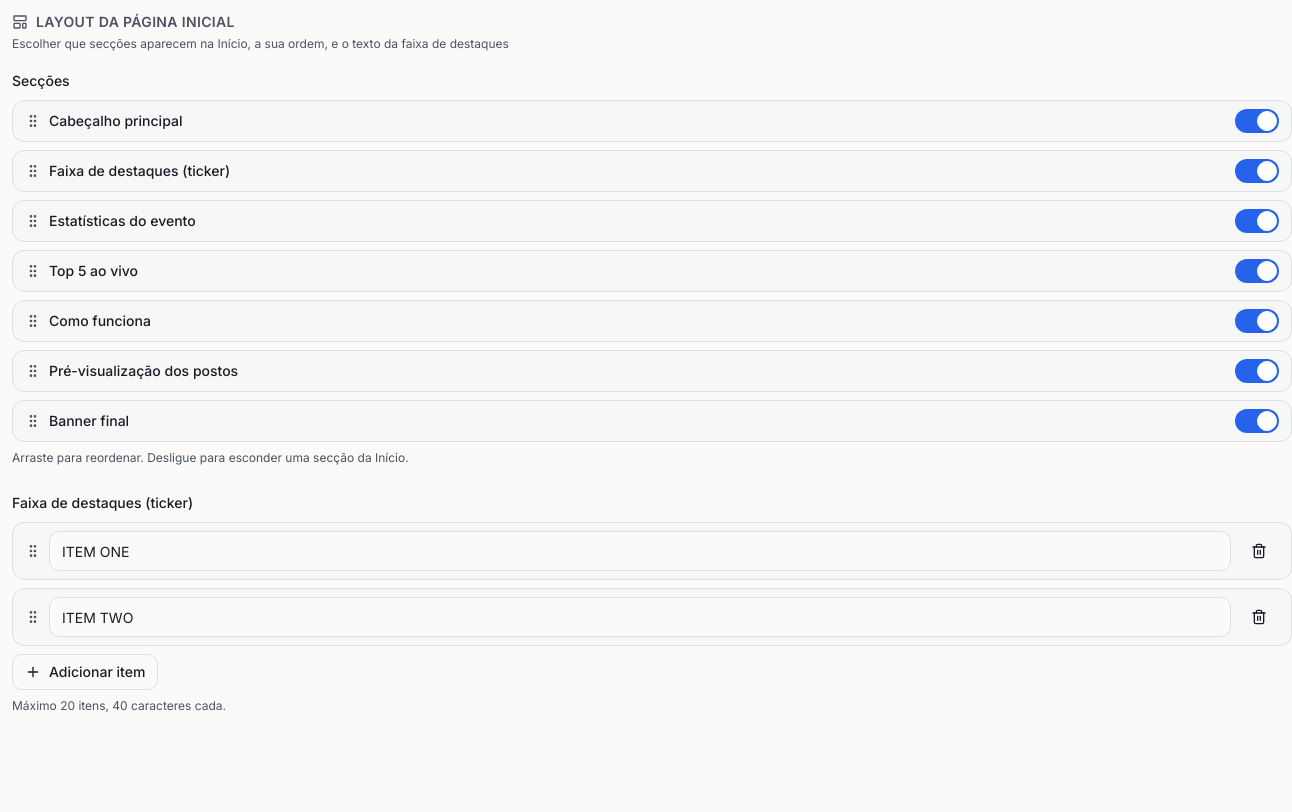
Test: HomeLayoutSettings › adds a new ticker item on button click
Click the button "Adicionar item": coordinates (85, 672) left=12, top=654, right=158, bottom=690
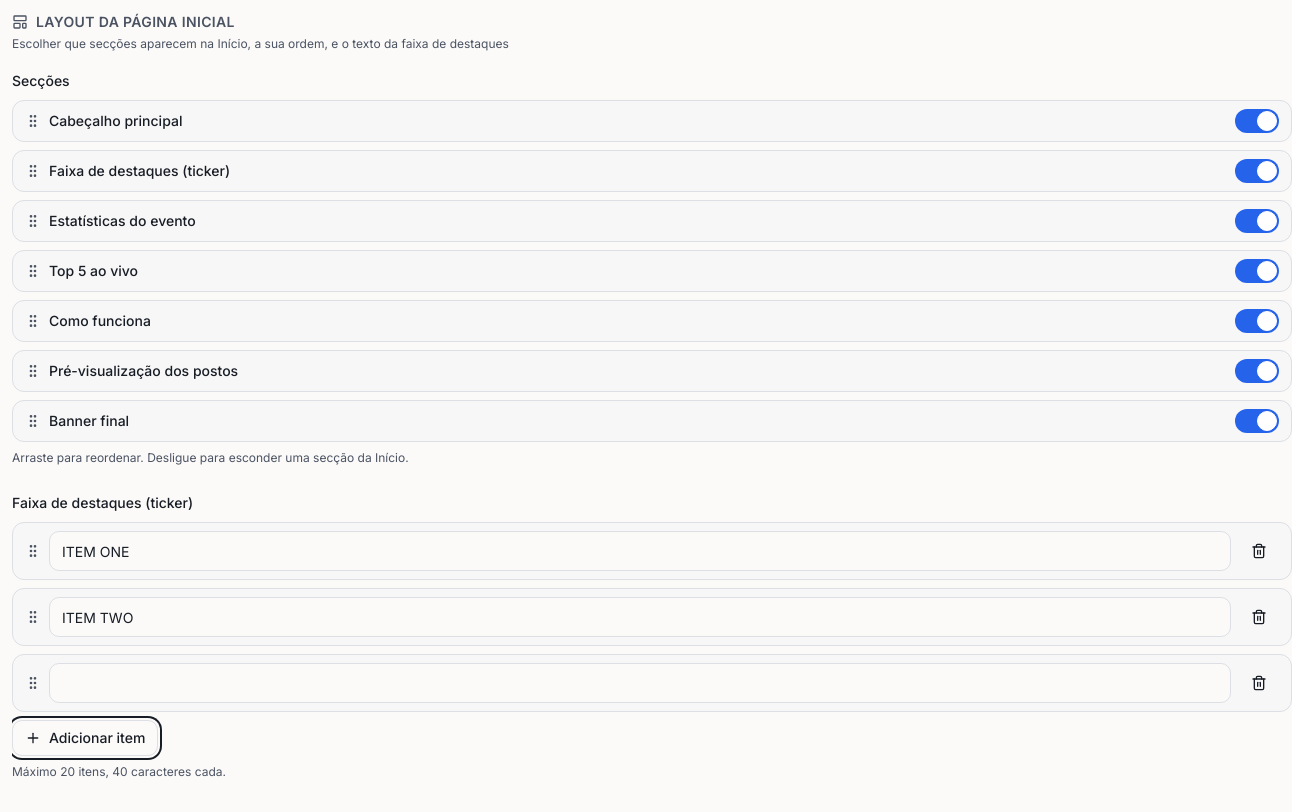
expect the field named "Item 3 da faixa de destaques" is shown: met, box left=49, top=663, right=1231, bottom=703
